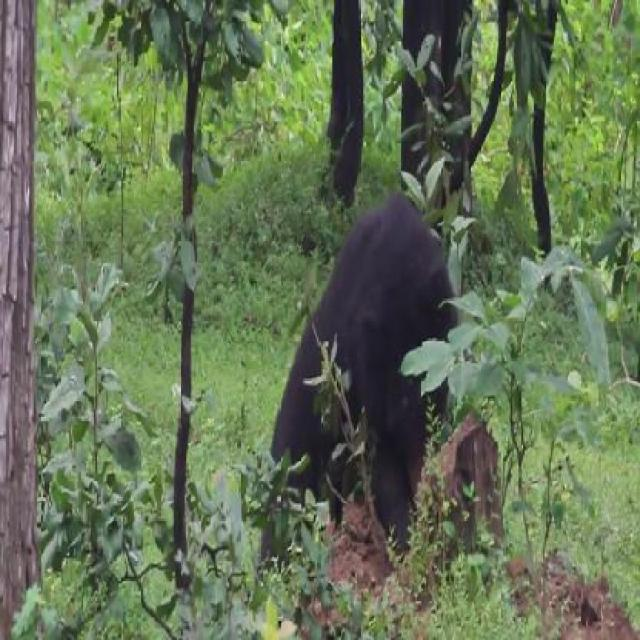Bear: (262, 185, 452, 550)
